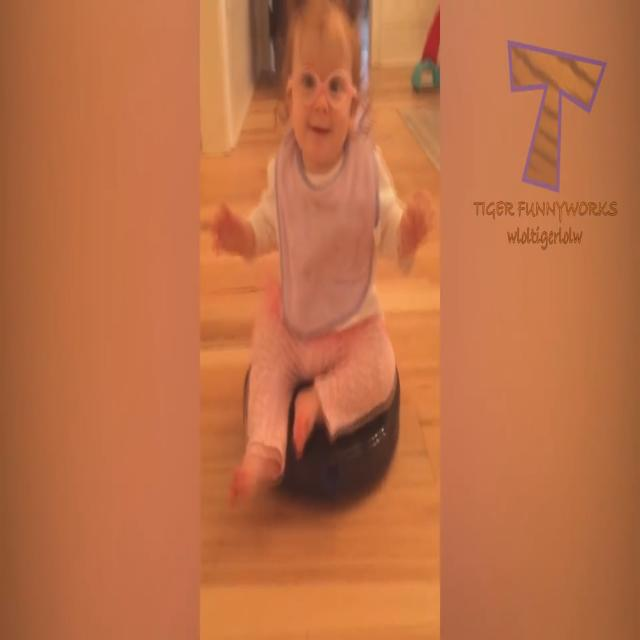dangerous: (214, 5, 425, 511)
